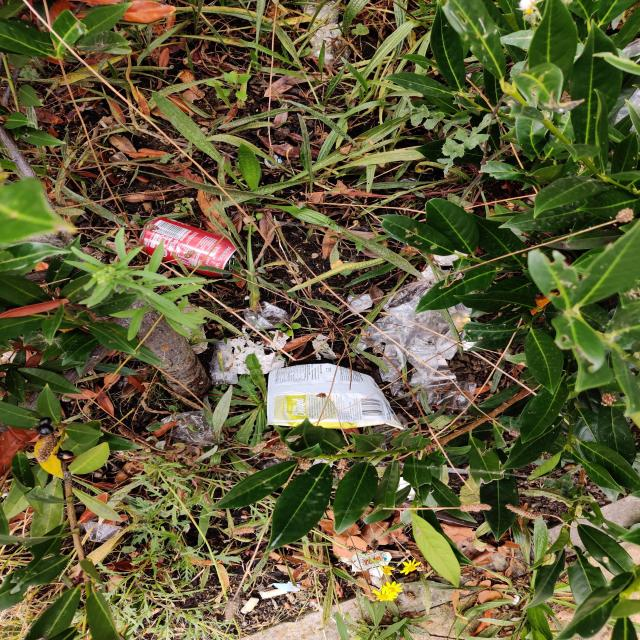litter: (356, 272, 473, 388), (267, 364, 403, 430), (140, 217, 236, 269), (392, 356, 475, 409), (301, 1, 349, 65), (233, 329, 284, 374), (162, 411, 217, 444), (244, 302, 291, 331), (353, 550, 393, 578), (212, 341, 237, 384), (82, 521, 121, 542), (416, 264, 449, 280), (432, 250, 468, 264), (347, 295, 372, 315), (260, 588, 288, 599), (241, 599, 258, 612)
